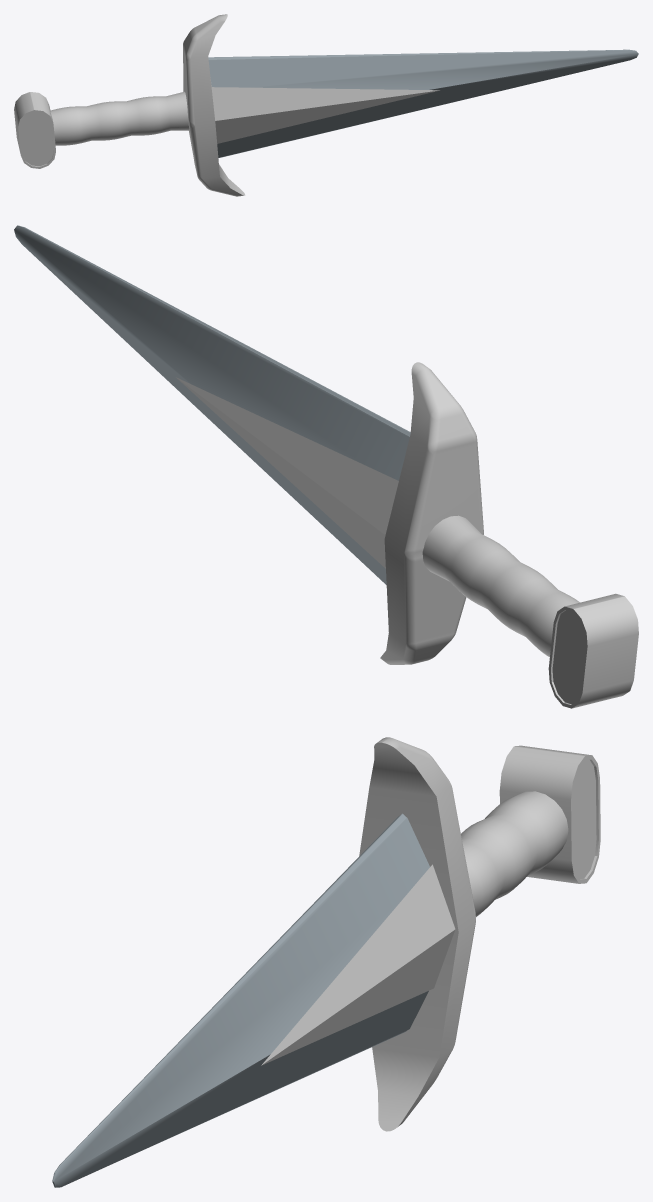
The model's file is 697997Blade.fbx.
3 renders of one model, top to bottom at view 1: azimuth 30°, elevation 25°; view 2: azimuth 150°, elevation 25°; view 3: azimuth 270°, elevation 25°, orthographic. The views are drawn at different scales.
Visible parts, largest first — view 1: polySurface7; view 2: polySurface7; view 3: polySurface7.
Part boxes in pixels (x1,y1,x2,y2): polySurface7: (14,14,638,196); polySurface7: (14,225,638,708); polySurface7: (52,737,600,1187).
Bounding box in the file's own units: 36.16 × 12.8 × 17.11.
